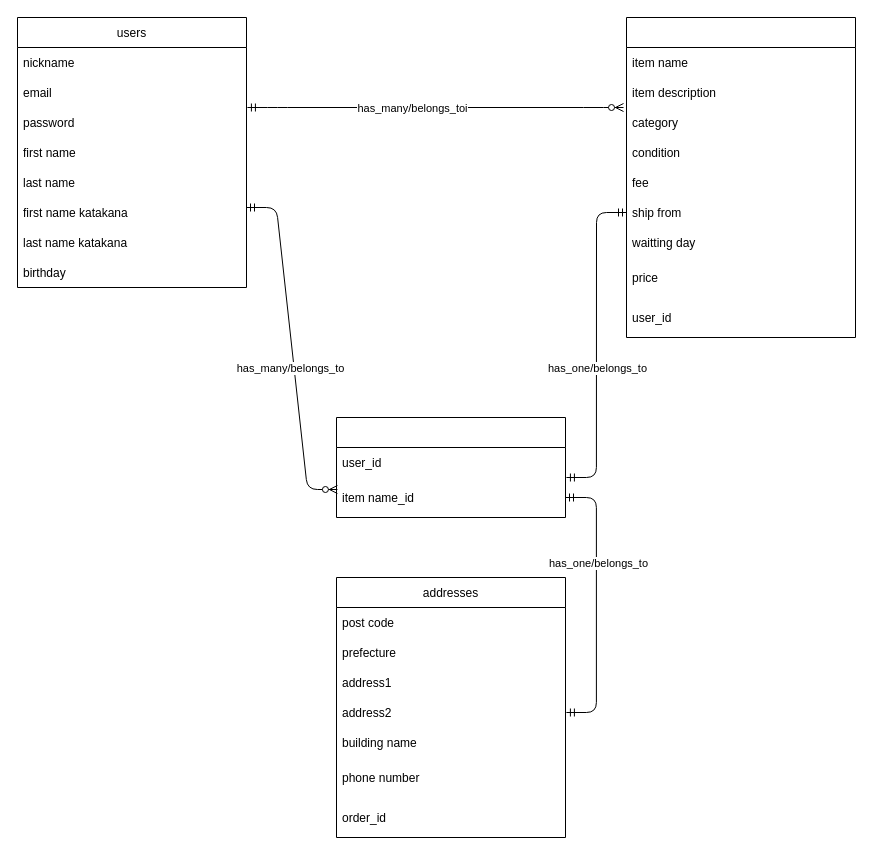
This 873x855 diagram has some shape labels left out. The shapes that lost their labels are listed below. From the top down, each one's box as (x1, y1, x2, y2) in pixels, then its label:
(626, 16, 856, 338): items
(336, 416, 566, 518): oders
